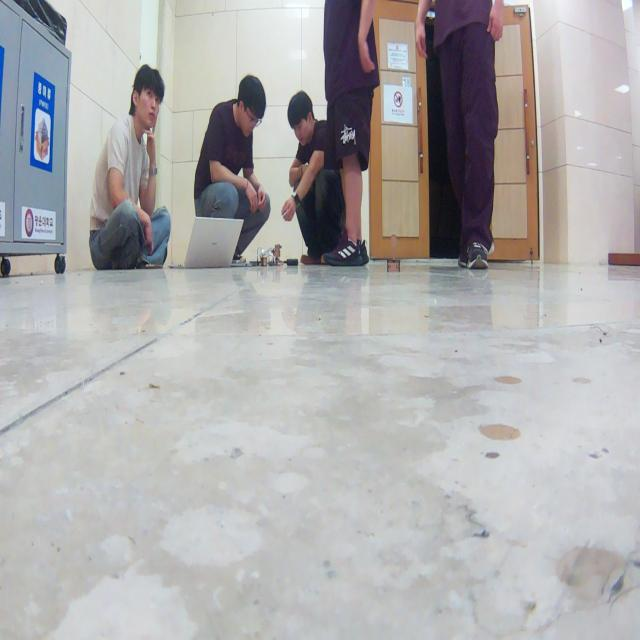target: (387, 234, 401, 273)
